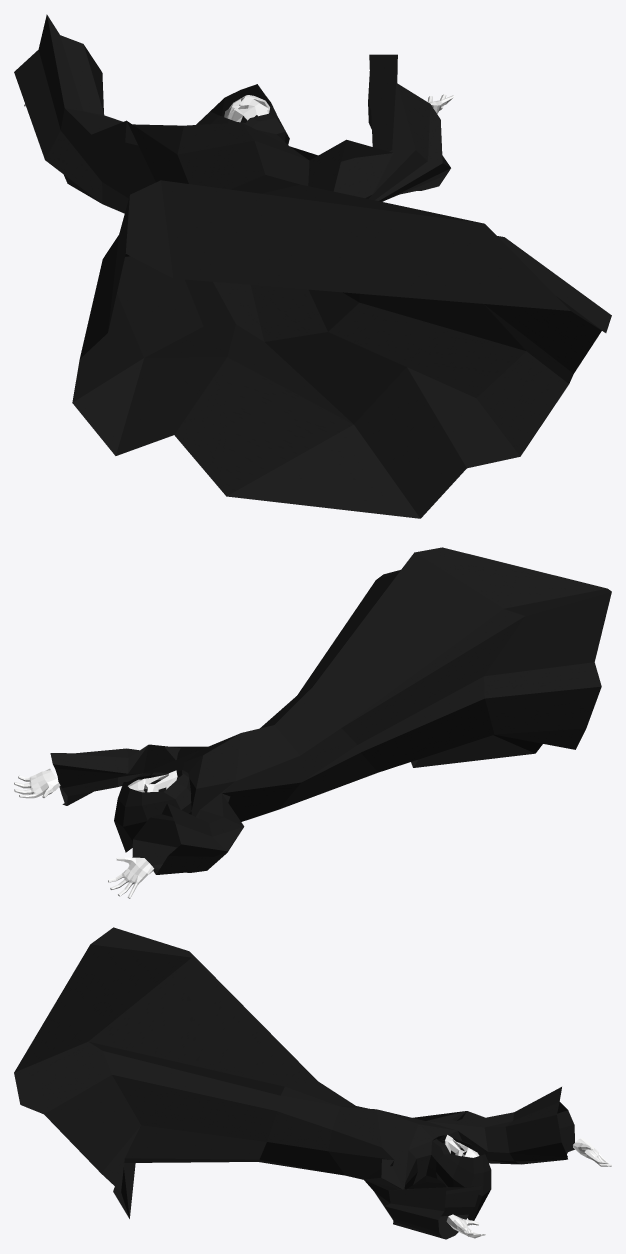
The model's file is ReaperDead(108).obj.
The picture shows the model from 3 angles, top to bottom: view 1: azimuth 30°, elevation 25°; view 2: azimuth 150°, elevation 25°; view 3: azimuth 270°, elevation 25°; orthographic projection. The views are drawn at different scales.
Parts seen in each view (by area): view 1: Plane003; view 2: Plane003; view 3: Plane003.
Part boxes in pixels (box(x1,y1,x2,y2)): Plane003: box(14, 14, 611, 518); Plane003: box(14, 547, 611, 898); Plane003: box(14, 927, 611, 1239).
Size of the model in its own units: 211 by 107 by 294.
